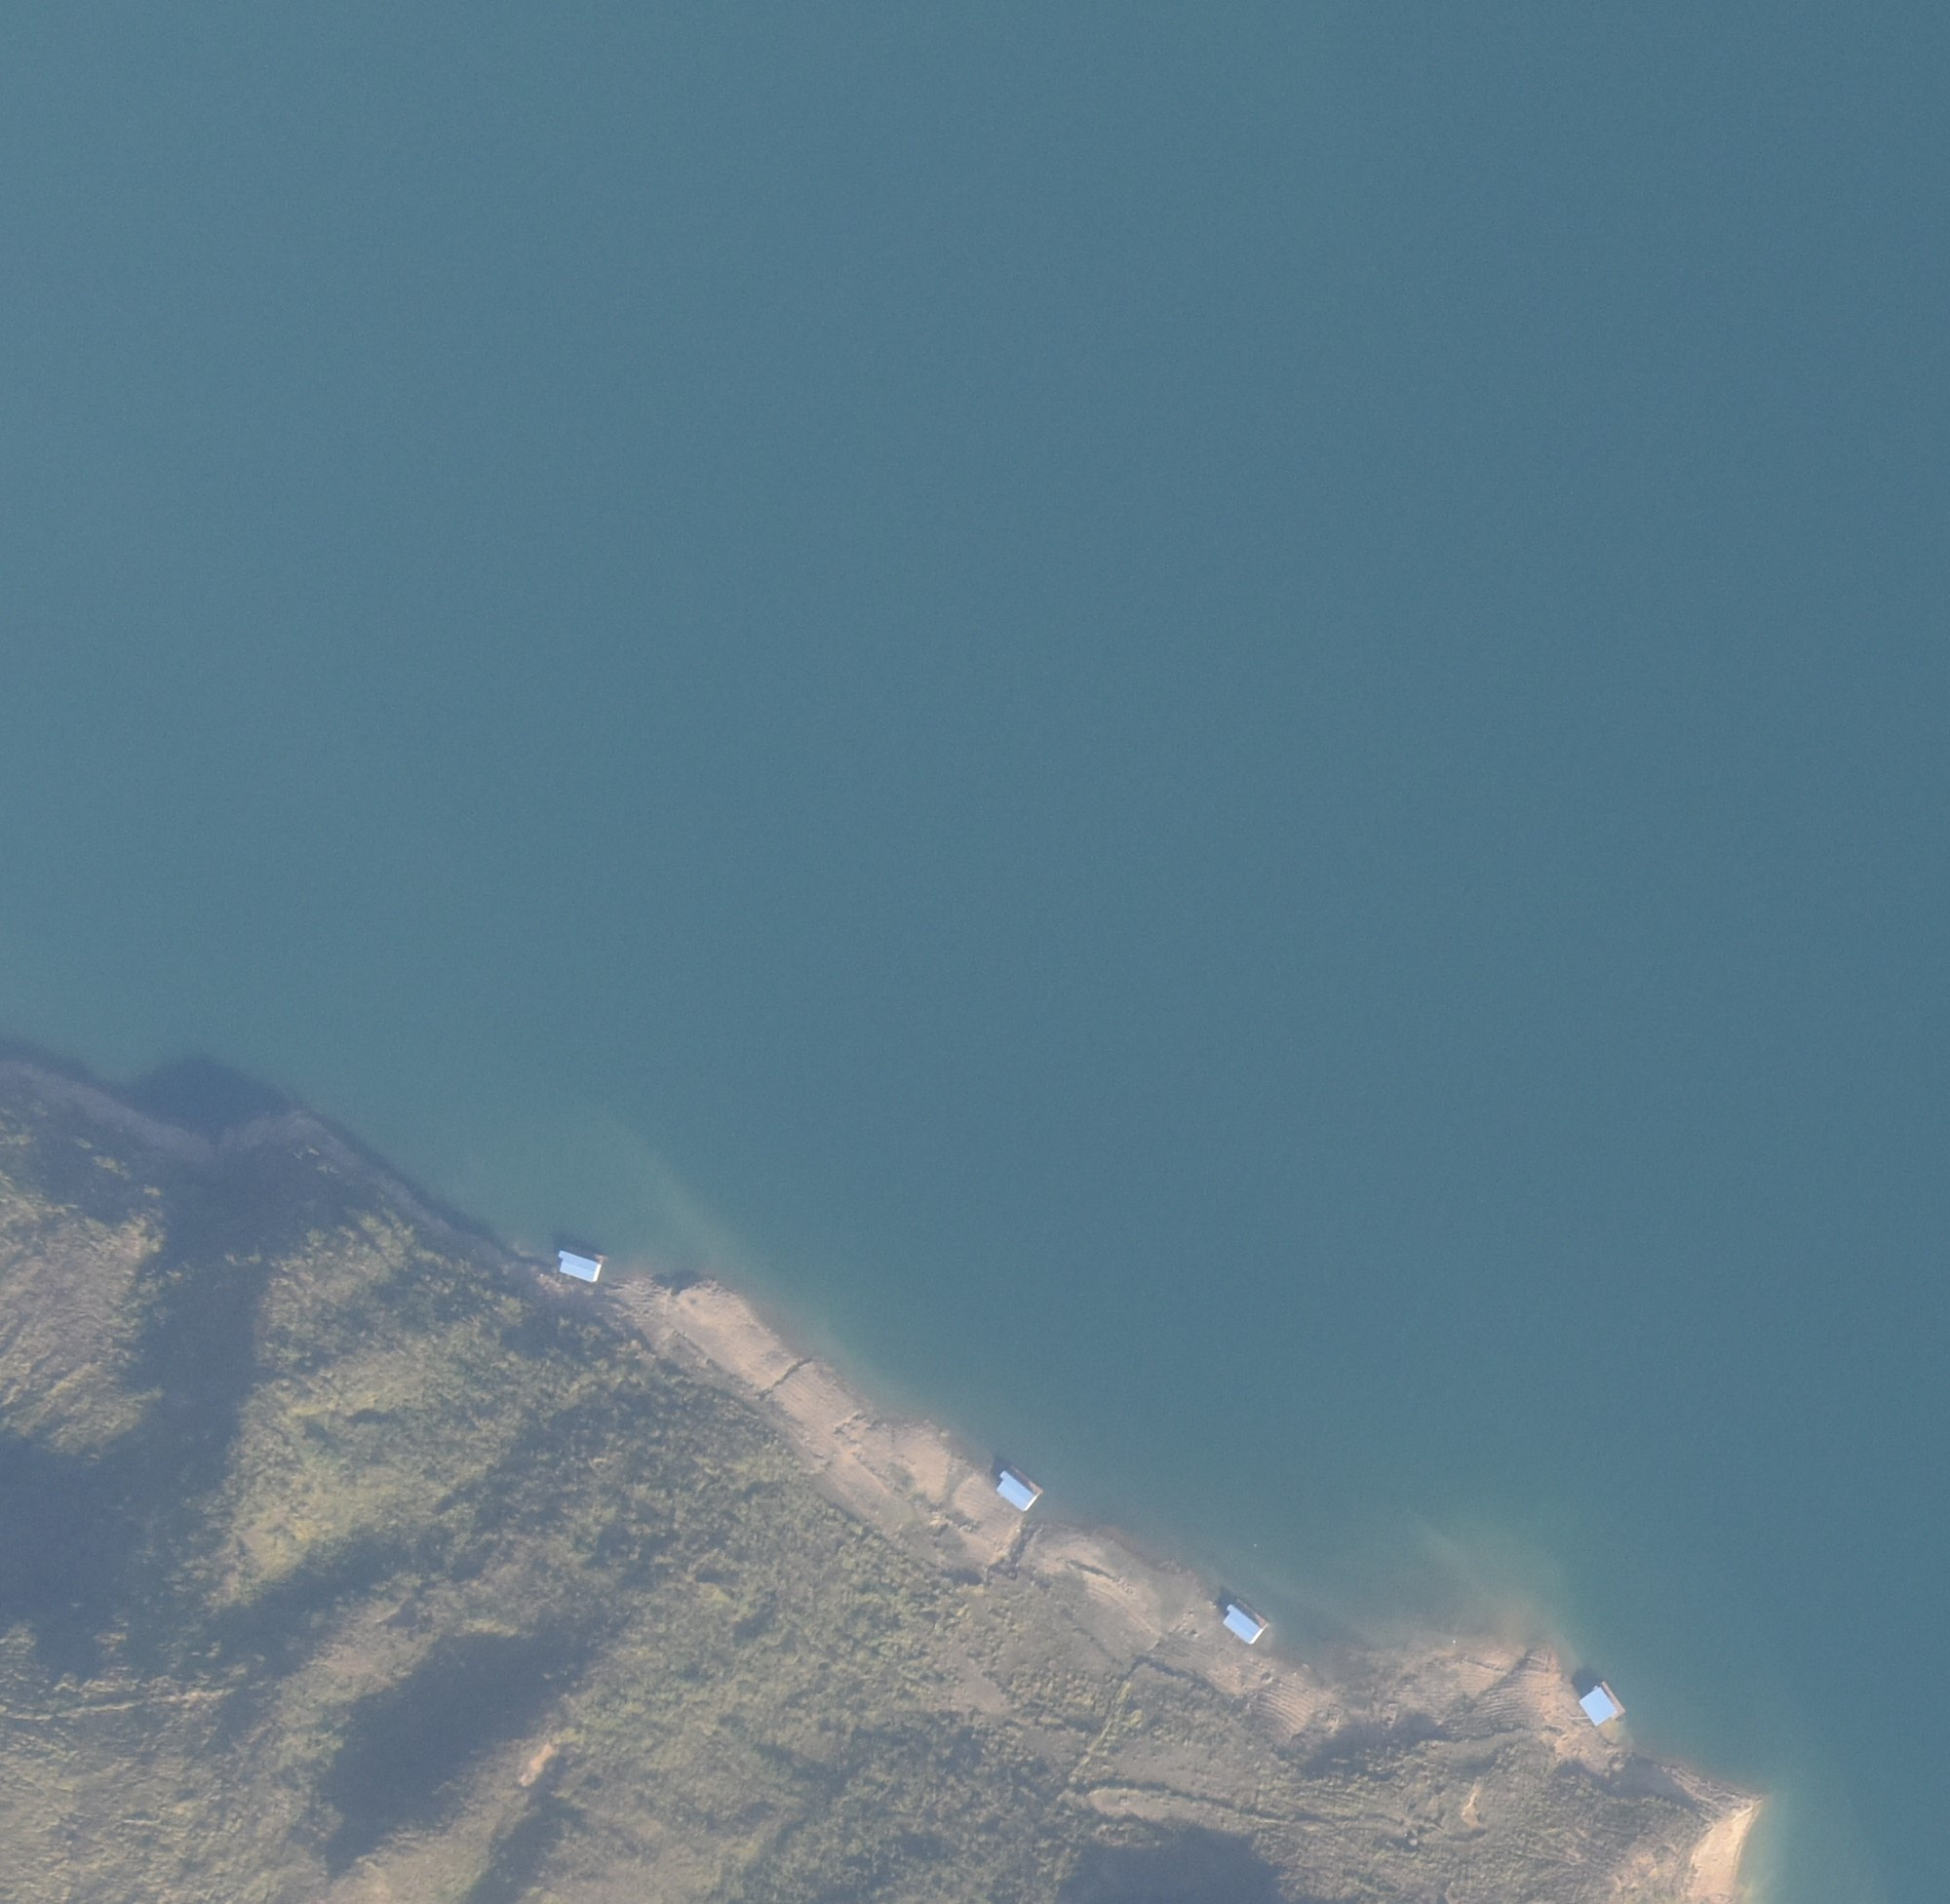prefabricated-house: (556, 1240, 600, 1290), (1575, 1686, 1622, 1726), (992, 1470, 1038, 1510), (1221, 1604, 1261, 1642)
